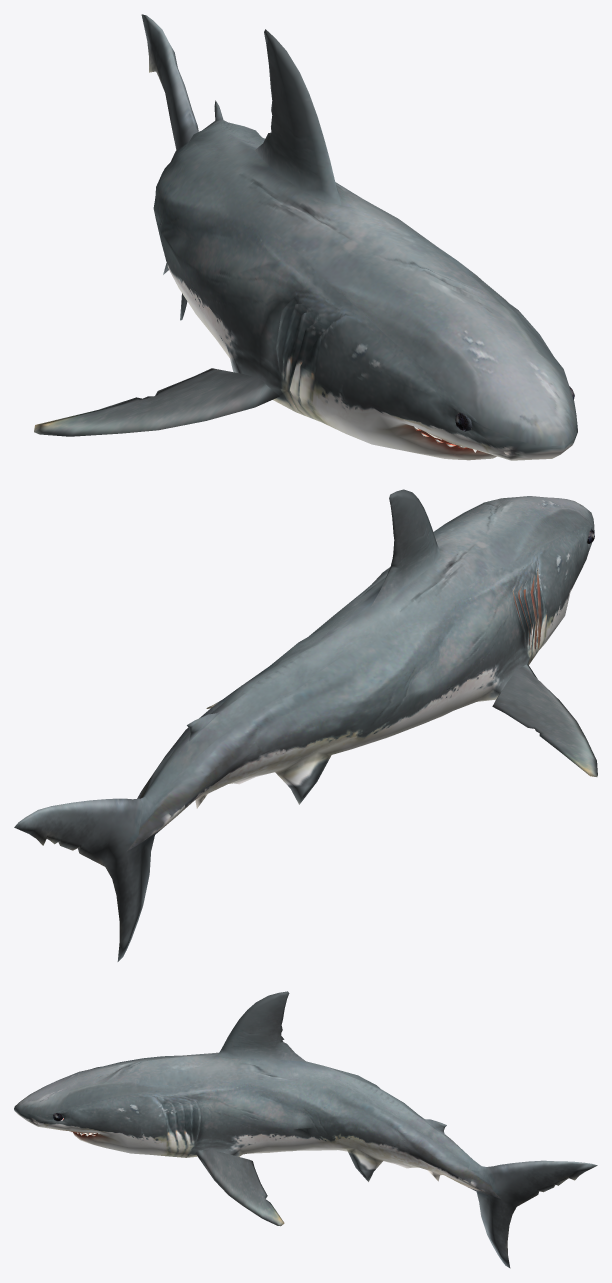
Rendered from tibu.obj.
The picture shows the model from 3 angles, top to bottom: view 1: azimuth 30°, elevation 25°; view 2: azimuth 150°, elevation 25°; view 3: azimuth 270°, elevation 25°; orthographic projection. The views are drawn at different scales.
Parts seen in each view (by area): view 1: Null_Mesh_0004; view 2: Null_Mesh_0004; view 3: Null_Mesh_0004.
Boxes of the visible parts, <box> form: Null_Mesh_0004: <box>34,14,577,460</box>; Null_Mesh_0004: <box>14,489,597,961</box>; Null_Mesh_0004: <box>14,991,597,1268</box>.
Size of the model in its own units: 31.73 by 29.45 by 63.9.
2 materials, 2 textured.
